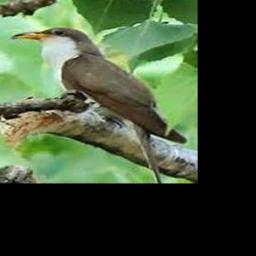Cuckoo: (10, 27, 186, 183)
